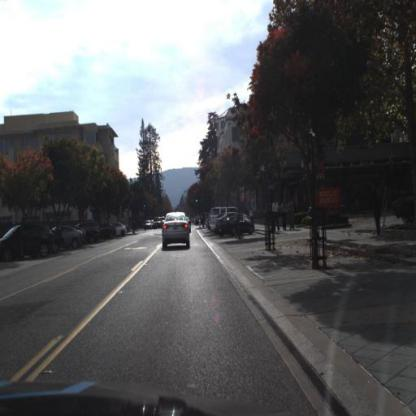car: (1, 220, 54, 262), (161, 208, 193, 252), (214, 211, 258, 239), (53, 223, 88, 251), (73, 219, 103, 246), (60, 222, 85, 250), (92, 221, 117, 244)
pedestrian: (371, 182, 385, 239), (280, 197, 290, 233), (288, 197, 296, 237), (272, 197, 280, 236), (280, 198, 287, 236)
trafficLight-Green: (195, 194, 200, 207)
